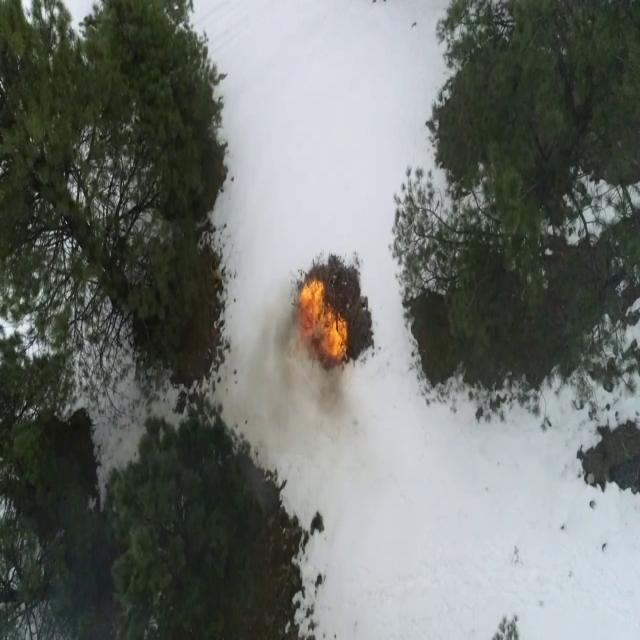fire: (297, 283, 348, 360)
